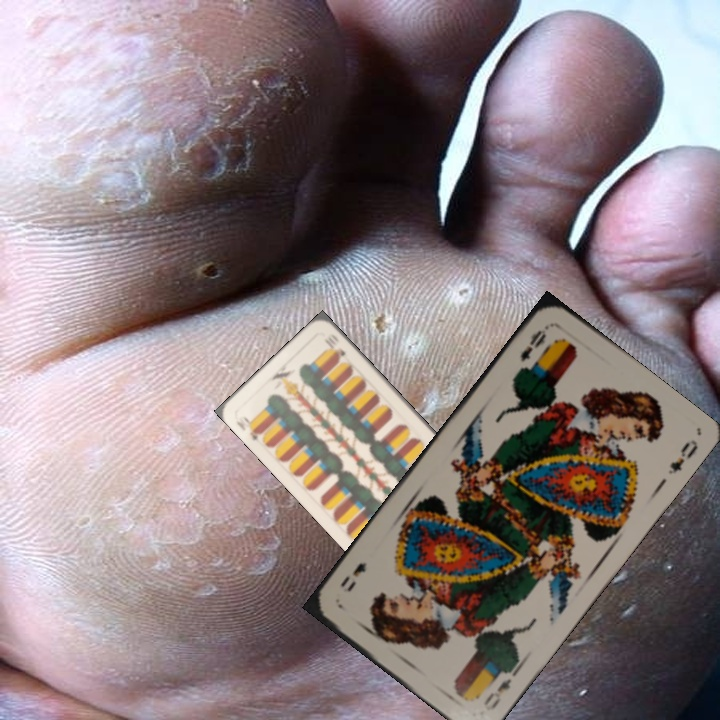E10: (232, 412, 265, 444)
EO: (479, 663, 521, 714), (516, 322, 551, 364)
